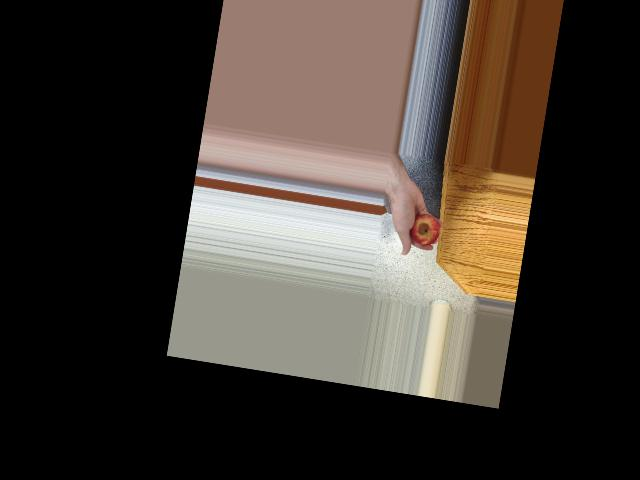apple: (406, 206, 443, 249)
